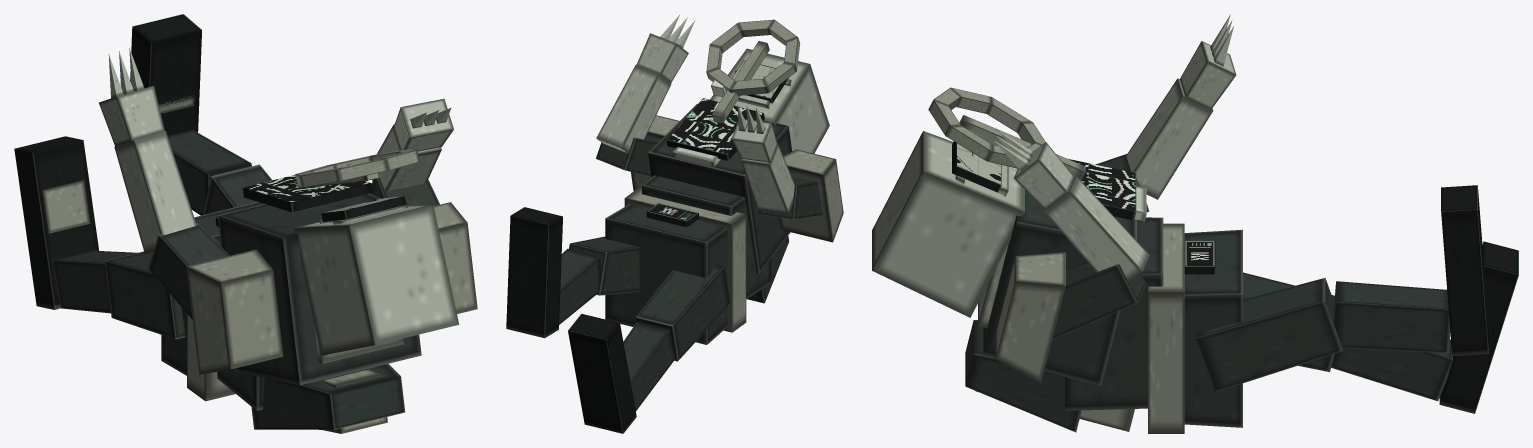
Rendered from probator_move.obj.
3 renders of one model, left to right at view 1: azimuth 30°, elevation 25°; view 2: azimuth 150°, elevation 25°; view 3: azimuth 270°, elevation 25°, orthographic. The views are drawn at different scales.
Visible parts, largest first — view 1: probator_move; view 2: probator_move; view 3: probator_move.
Part boxes in pixels (bbox=[...]): probator_move: bbox=[14, 14, 477, 433]; probator_move: bbox=[506, 15, 843, 433]; probator_move: bbox=[872, 14, 1518, 433].
Bounding box in the file's own units: 0.4925 × 0.6209 × 1.04.
Materials: 1 (1 with a texture image).
